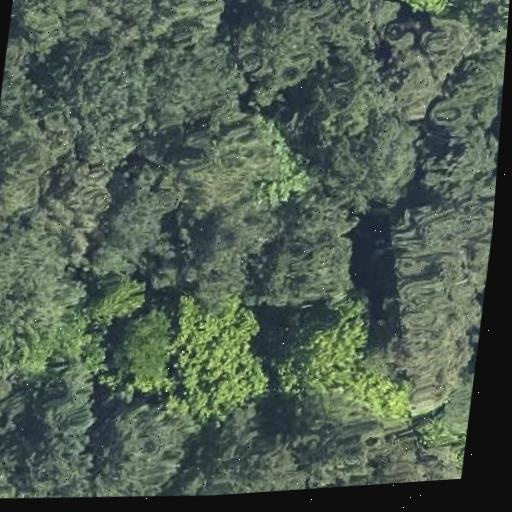tree-top: (0, 87, 142, 296), (257, 291, 425, 436), (152, 285, 285, 422), (170, 97, 312, 222), (267, 188, 370, 322), (380, 194, 495, 313), (11, 367, 106, 495), (425, 45, 506, 192), (140, 20, 249, 128), (88, 395, 194, 502), (323, 106, 428, 213), (231, 0, 333, 100), (87, 178, 171, 292), (0, 283, 94, 382), (199, 422, 320, 496), (14, 0, 157, 55), (103, 299, 182, 398), (368, 414, 468, 485), (146, 0, 250, 45), (369, 0, 452, 16)
